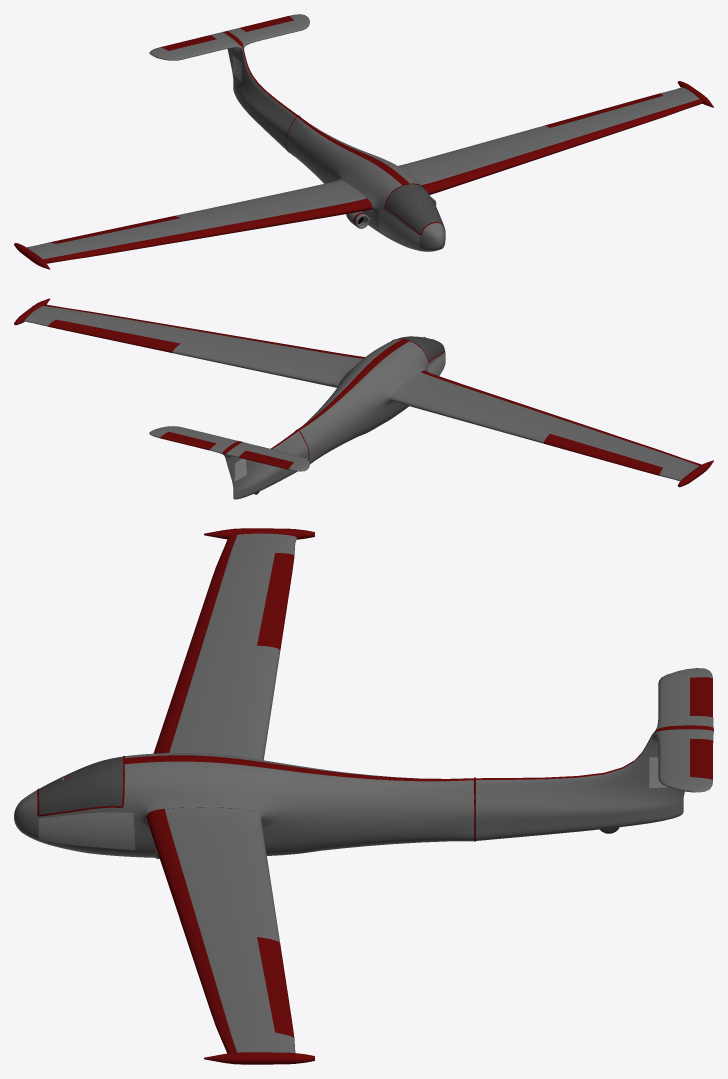
File: glider.dae
3 views of the same model, one above another, from view 1: azimuth 30°, elevation 25°; view 2: azimuth 150°, elevation 25°; view 3: azimuth 270°, elevation 25° (orthographic). The views are drawn at different scales.
Visible parts, largest first — view 1: glider_wings_R, glider_wings_L, glider_body, glider_tail, glider_windows, glider_ailerons, glider_decal_front, glider_elevators; view 2: glider_wings_R, glider_wings_L, glider_body, glider_tail, glider_ailerons, glider_elevators, glider_windows; view 3: glider_body, glider_wings_L, glider_wings_R, glider_tail, glider_ailerons, glider_windows, glider_decal_front, glider_elevators.
Boxes of the visible parts, left/top/right/bottom form: glider_wings_R: left=14, top=179, right=372, bottom=269; glider_wings_L: left=398, top=81, right=713, bottom=194; glider_body: left=287, top=116, right=445, bottom=251; glider_tail: left=149, top=14, right=309, bottom=152; glider_windows: left=385, top=184, right=443, bottom=233; glider_ailerons: left=50, top=93, right=662, bottom=243; glider_decal_front: left=378, top=209, right=445, bottom=249; glider_elevators: left=160, top=16, right=293, bottom=50; glider_wings_R: left=389, top=370, right=713, bottom=487; glider_wings_L: left=14, top=298, right=364, bottom=387; glider_body: left=298, top=338, right=445, bottom=463; glider_tail: left=149, top=426, right=309, bottom=499; glider_ailerons: left=48, top=319, right=662, bottom=475; glider_elevators: left=160, top=432, right=293, bottom=469; glider_windows: left=397, top=336, right=443, bottom=361; glider_body: left=14, top=753, right=474, bottom=857; glider_wings_L: left=146, top=807, right=314, bottom=1064; glider_wings_R: left=153, top=528, right=314, bottom=760; glider_tail: left=474, top=668, right=713, bottom=841; glider_ailerons: left=257, top=553, right=294, bottom=1037; glider_windows: left=39, top=756, right=122, bottom=814; glider_decal_front: left=38, top=812, right=135, bottom=849; glider_elevators: left=690, top=677, right=713, bottom=779.
Size of the model in its own units: 15.21 by 8.48 by 1.82.
